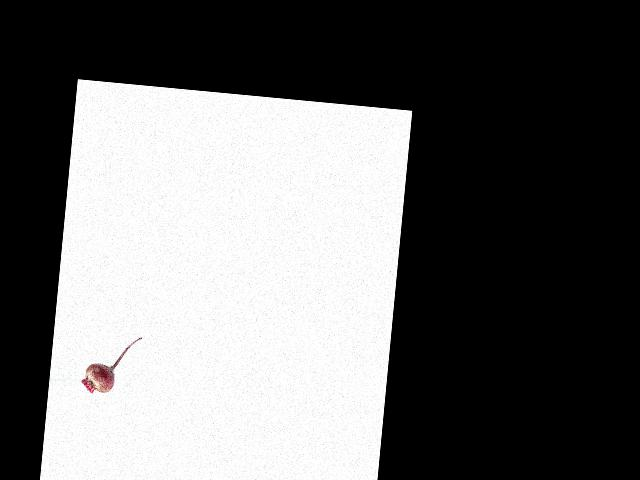beet: (80, 331, 142, 397)
